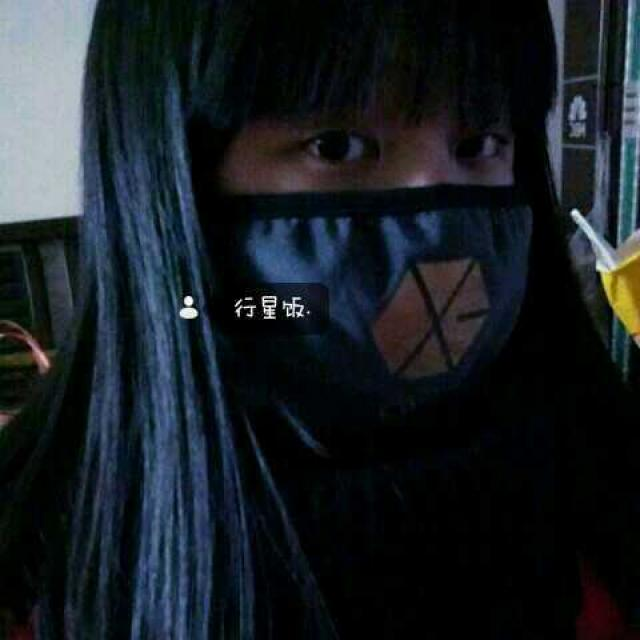mask: (228, 12, 537, 377)
